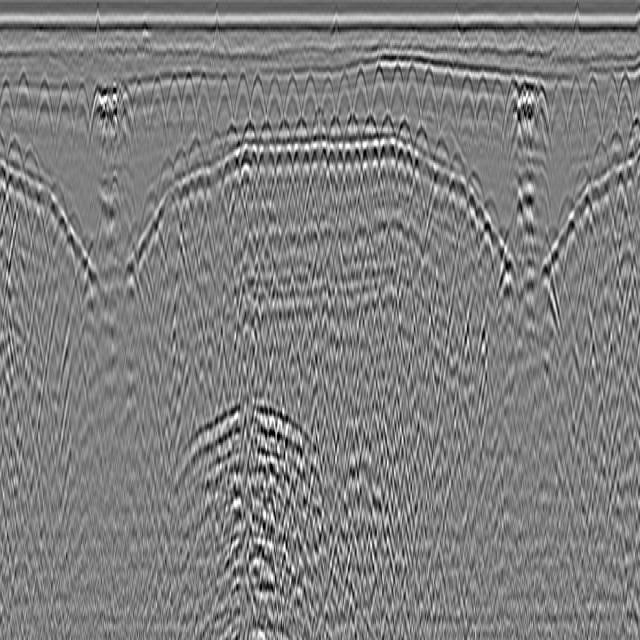hyperbola: (561, 64, 593, 179), (580, 51, 612, 166), (32, 71, 62, 186), (401, 52, 432, 158), (146, 60, 168, 180), (53, 52, 76, 164), (70, 56, 93, 168), (433, 64, 456, 176), (456, 63, 479, 171), (247, 55, 272, 154), (115, 57, 135, 176), (278, 55, 302, 149), (549, 61, 569, 173), (11, 72, 34, 167), (484, 65, 506, 164), (84, 57, 103, 171), (417, 65, 440, 156), (300, 54, 324, 141), (614, 62, 634, 166), (472, 68, 491, 173), (351, 57, 375, 136), (384, 58, 405, 146), (164, 71, 184, 163), (597, 71, 620, 149), (512, 79, 540, 143), (180, 52, 199, 145), (133, 65, 149, 170), (502, 79, 522, 158), (532, 78, 550, 165), (195, 74, 213, 158), (371, 58, 388, 140), (267, 64, 283, 146), (216, 68, 233, 145), (321, 58, 336, 143), (1, 58, 14, 156), (233, 74, 251, 140), (338, 55, 352, 131)
